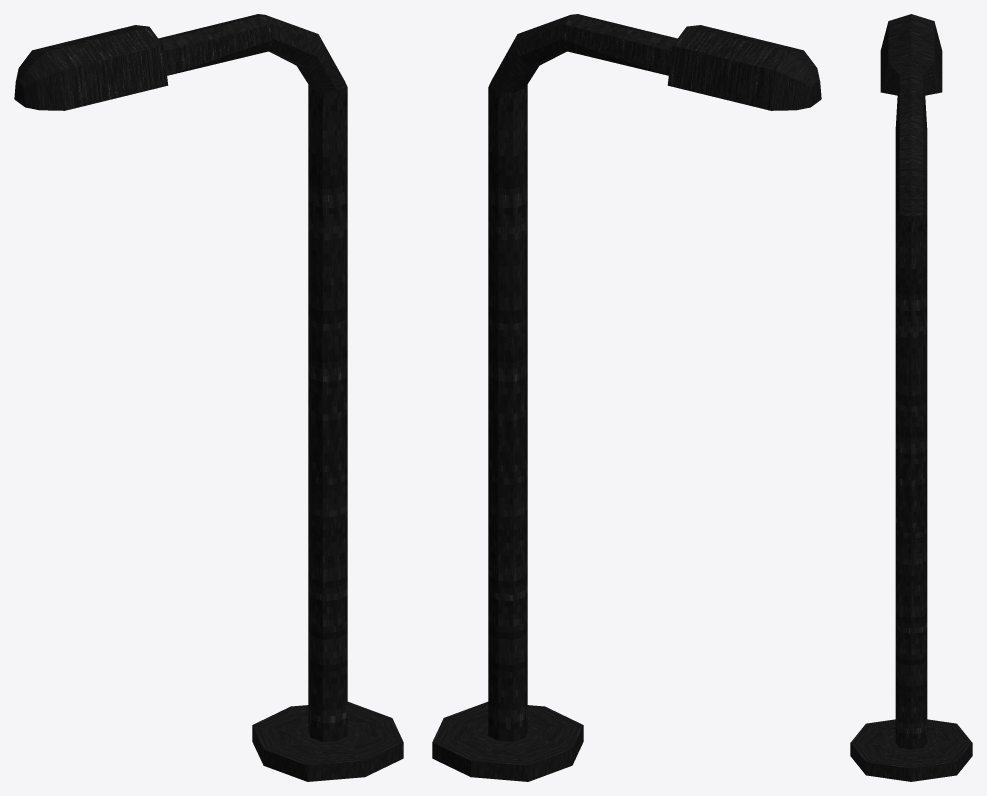
The model's file is StreetLight.glb.
The picture shows the model from 3 angles, left to right: view 1: azimuth 30°, elevation 25°; view 2: azimuth 150°, elevation 25°; view 3: azimuth 270°, elevation 25°; orthographic projection. The views are drawn at different scales.
Parts seen in each view (by area): view 1: StreetLight; view 2: StreetLight; view 3: StreetLight.
Boxes of the visible parts, x1,y1,x2,y2 form: StreetLight: (14,14,403,781); StreetLight: (432,14,821,781); StreetLight: (850,14,972,781).
Bounding box in the file's own units: 11.75 × 23.12 × 4.06.
Materials: 1 (1 with a texture image).
